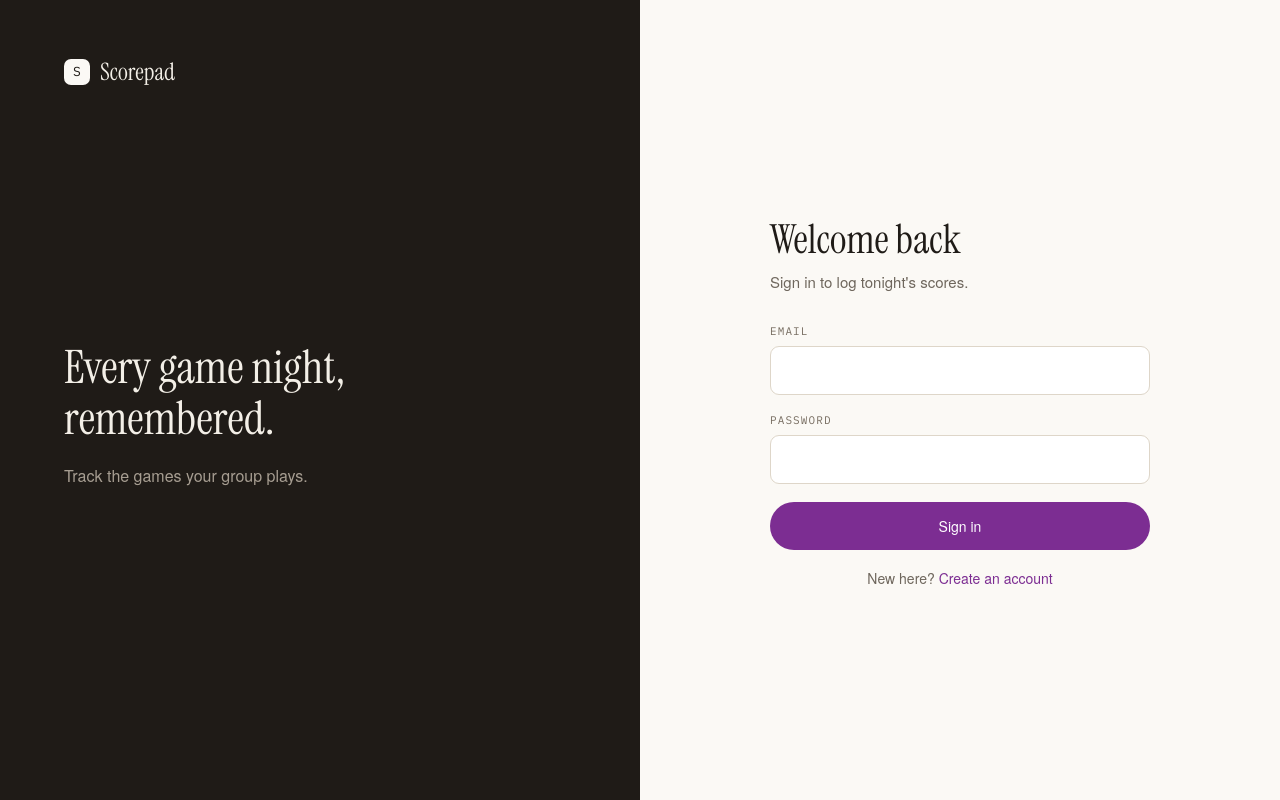
Test: login › shows the error returned by the API
Type "toto@example.com" into the field labelled "Email" at x=960, y=370, box [770,346,1150,394]
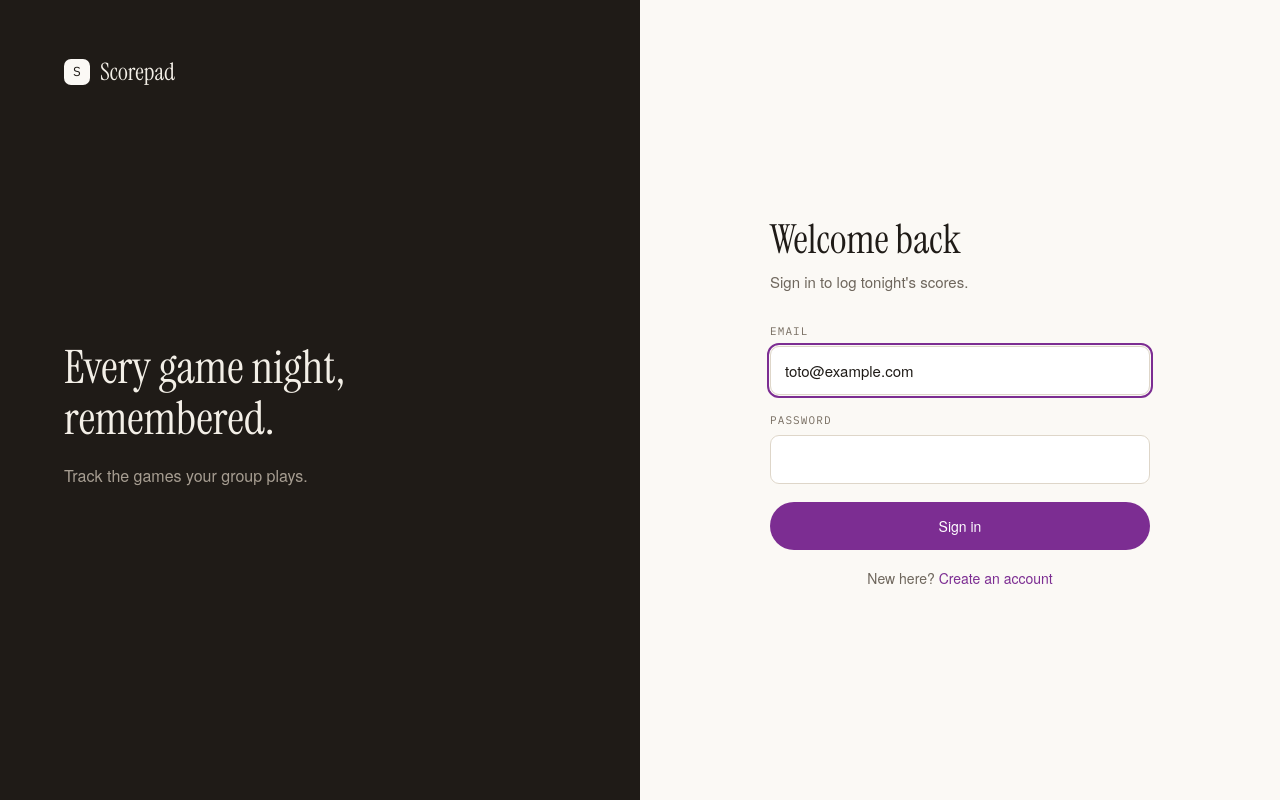
Type "wrong" into the password field labelled "Password" at x=960, y=459, box [770,434,1150,484]
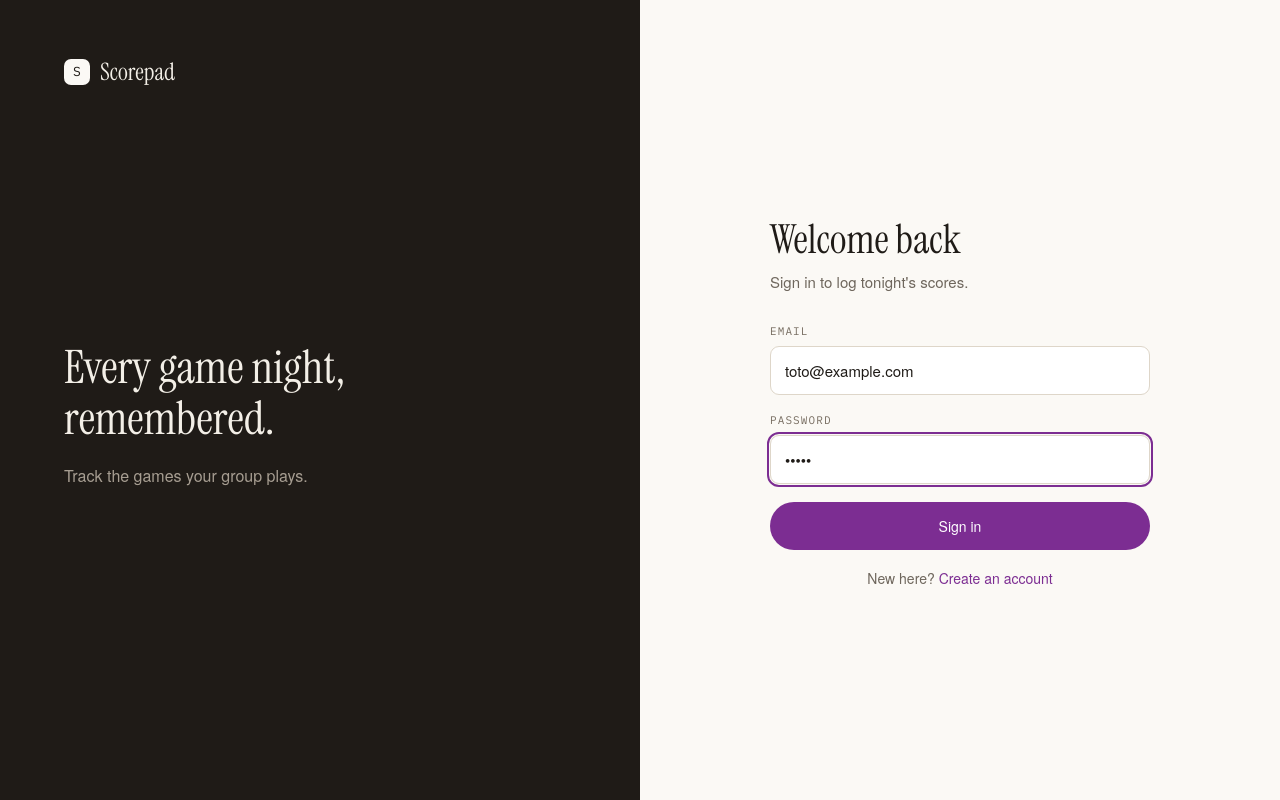
Click the button "Sign in" at x=960, y=526, box [770,502,1150,550]
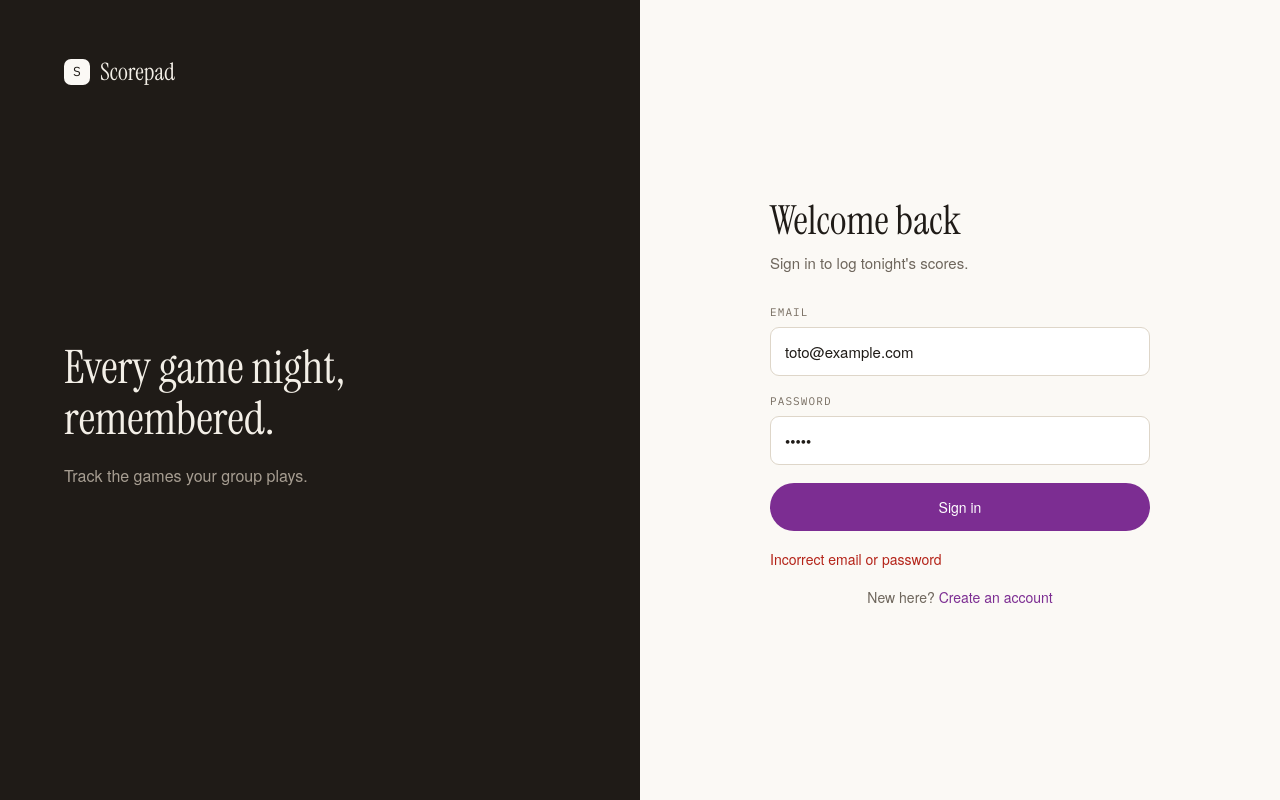
Expected: the message reads "Incorrect email or password", [770,548,942,568]
